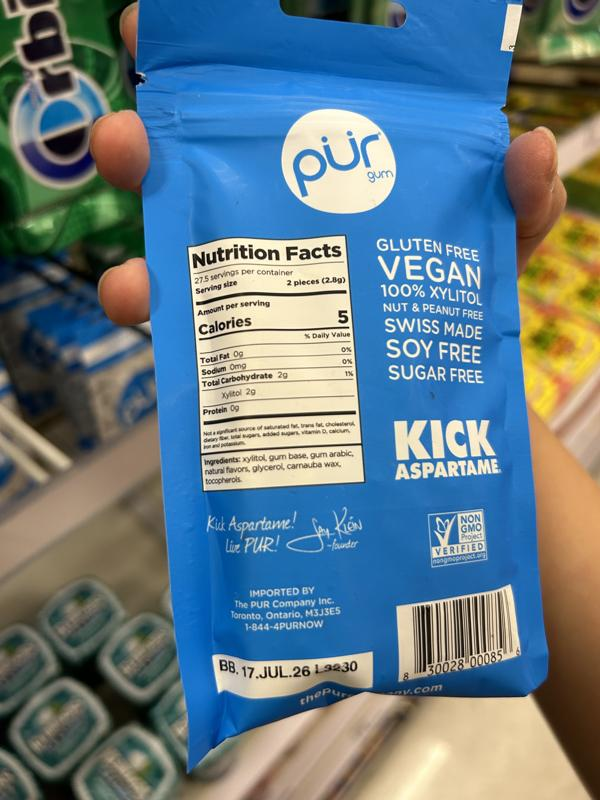ingredients: (200, 449, 359, 486)
